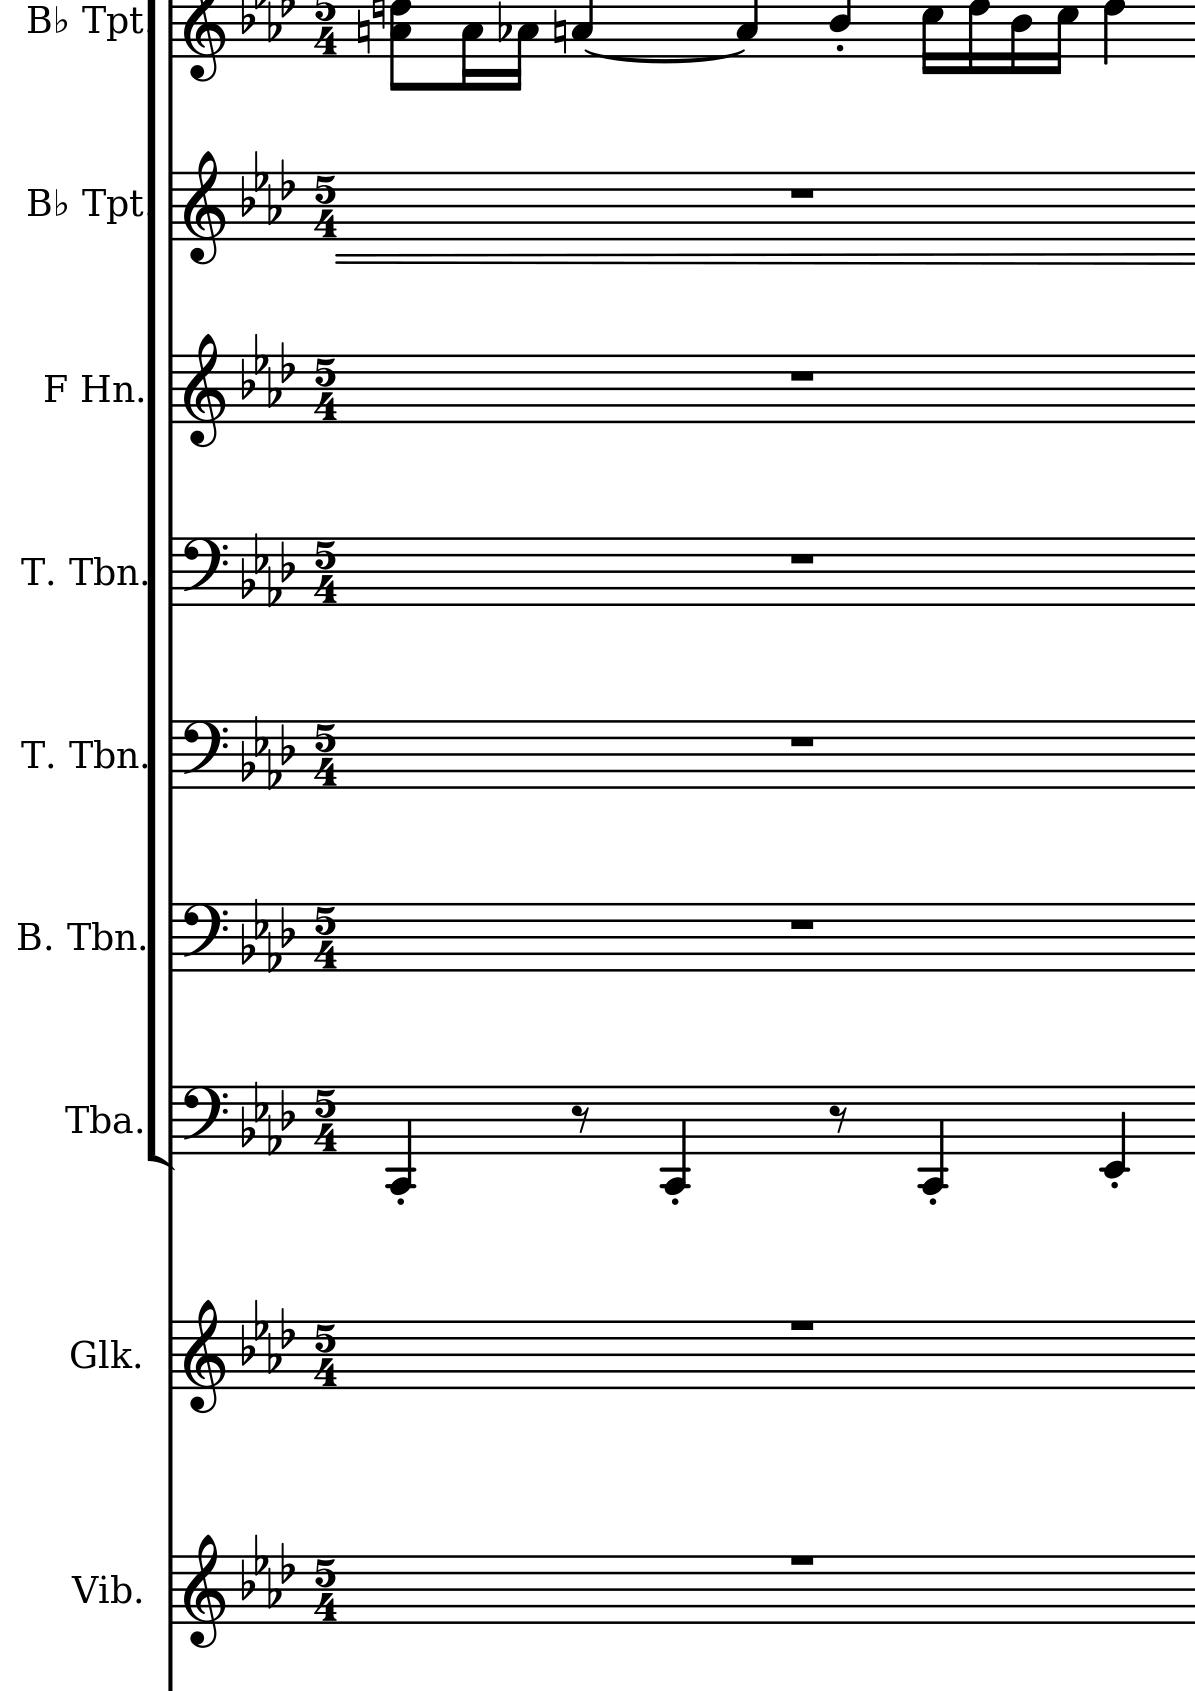4: (310, 752, 341, 787), (310, 1588, 341, 1622), (312, 19, 341, 56), (310, 388, 341, 421), (310, 570, 340, 605), (310, 1118, 340, 1153), (310, 1354, 340, 1388), (310, 936, 340, 970), (310, 206, 340, 238)
4_-2: (1101, 1083, 1130, 1180)
4_-4: (657, 1083, 691, 1195), (914, 1083, 948, 1195), (384, 1083, 416, 1195)
5: (310, 1319, 338, 1354), (312, 1083, 338, 1120), (312, 719, 339, 752), (312, 171, 338, 206), (312, 537, 338, 571), (312, 902, 338, 936), (312, 1554, 338, 1588), (312, 354, 338, 387)
A_F: (234, 1294, 297, 1376), (234, 1529, 297, 1610), (235, 328, 297, 409), (235, 144, 296, 225), (234, 895, 296, 972), (235, 527, 296, 606), (235, 1076, 296, 1154), (235, 714, 297, 790)
Fclef: (180, 901, 229, 975), (181, 1083, 229, 1158), (180, 719, 229, 791), (181, 535, 229, 609)
Flat: (495, 1, 511, 44)
Gclef: (181, 1298, 228, 1416), (181, 1532, 228, 1650), (182, 149, 228, 268), (182, 331, 228, 450)
Hn: (78, 368, 132, 410)
Natural: (354, 6, 371, 58)
Rests1: (785, 184, 817, 206), (784, 915, 819, 935), (786, 732, 817, 752), (785, 367, 817, 387), (785, 549, 817, 569), (785, 1316, 817, 1335), (785, 1551, 817, 1569)
Rests8: (568, 1103, 594, 1136), (826, 1103, 850, 1136)
Single_barline: (162, 902, 181, 972), (162, 721, 181, 789), (163, 1086, 181, 1157), (162, 173, 181, 239), (162, 1555, 180, 1625), (163, 356, 181, 424), (163, 539, 181, 606), (162, 1321, 178, 1390)
Tbn: (63, 728, 138, 778), (61, 911, 135, 961), (63, 547, 138, 593), (62, 1098, 136, 1142)
TimeSig: (310, 902, 338, 972), (312, 1085, 339, 1154), (312, 1320, 338, 1390), (312, 538, 338, 606), (312, 720, 338, 789), (312, 1555, 338, 1624), (313, 171, 338, 240), (313, 354, 338, 423)
Tpt: (79, 184, 142, 228), (81, 4, 149, 43)
